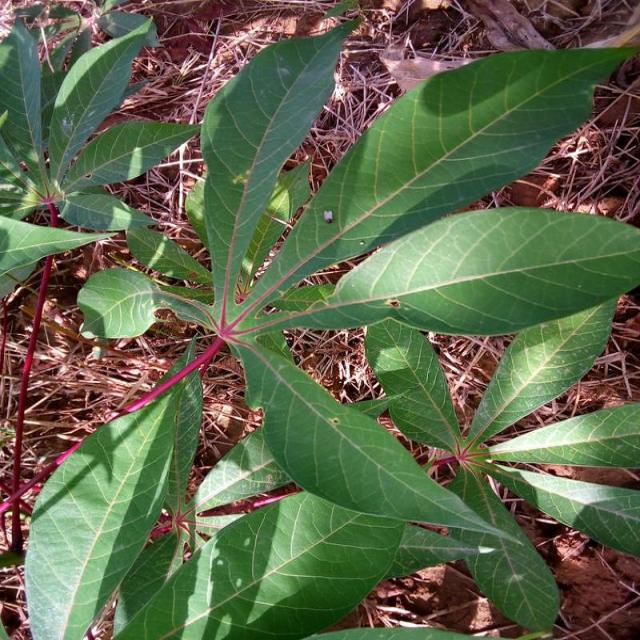cassava leaf: (20, 17, 638, 637), (226, 43, 637, 326), (24, 334, 202, 638), (198, 14, 364, 328)
